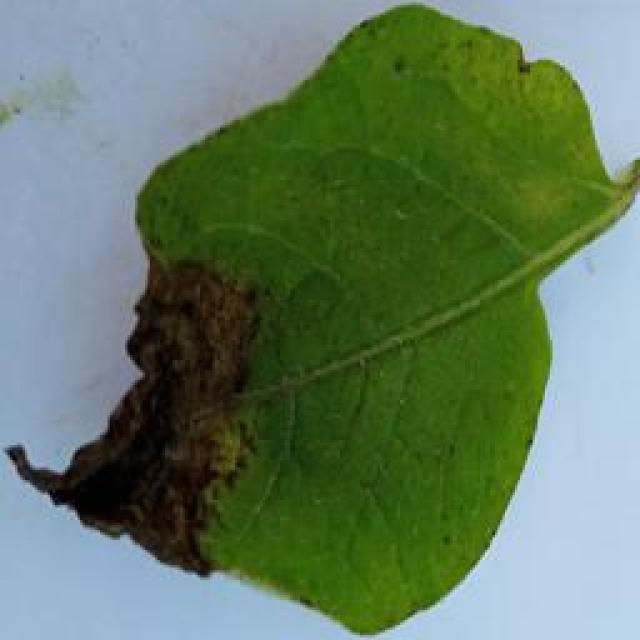Potato_Late_Blight: (14, 8, 639, 640)
